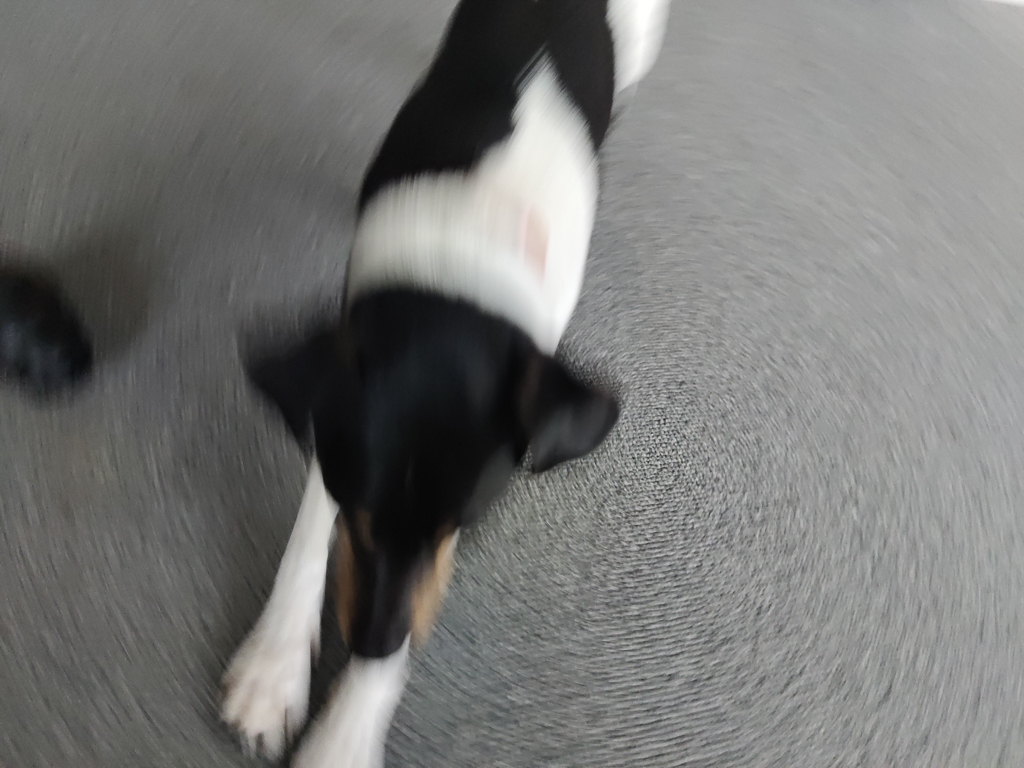Dog: (199, 0, 689, 768)
